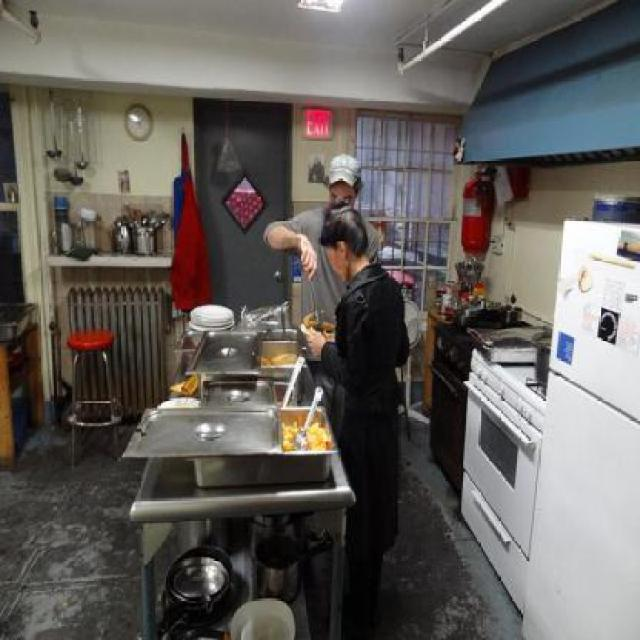Person: (305, 202, 412, 628), (262, 151, 382, 323)
